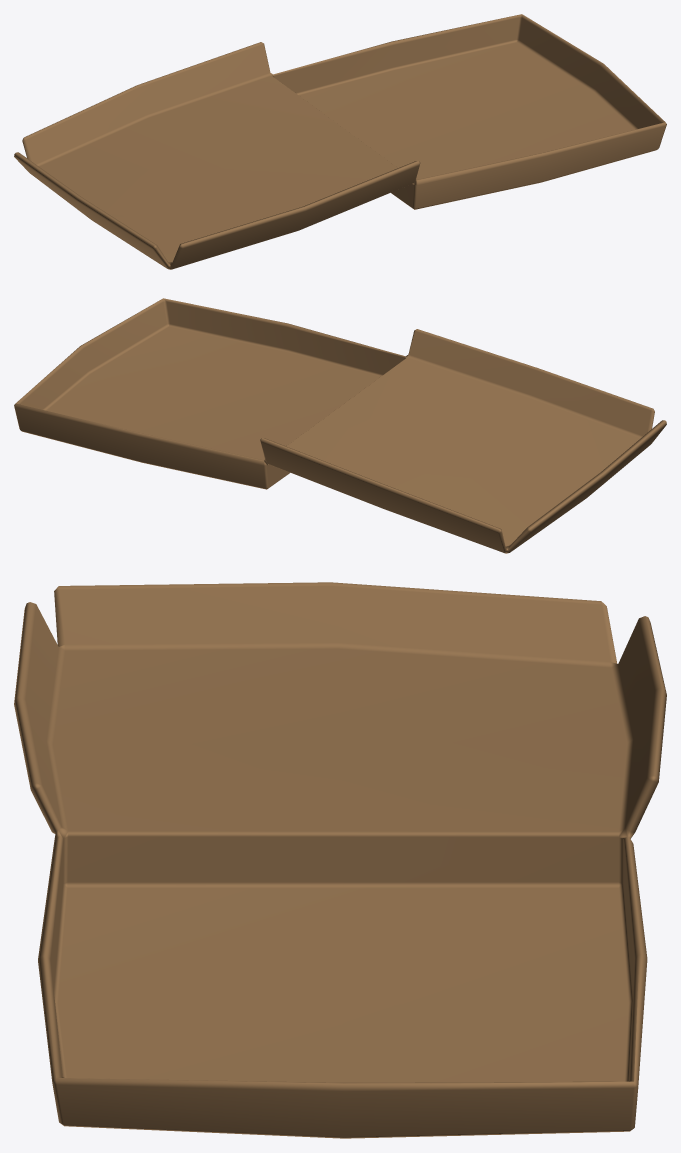
The model's file is pizza_box.gltf.
3 views of the same model, one above another, from view 1: azimuth 30°, elevation 25°; view 2: azimuth 150°, elevation 25°; view 3: azimuth 270°, elevation 25° (orthographic). The views are drawn at different scales.
Visible parts, largest first — view 1: Cube; view 2: Cube; view 3: Cube.
Part boxes in pixels (x1,y1,x2,y2): Cube: (14,14,666,269); Cube: (14,298,666,553); Cube: (14,582,666,1138).
Size of the model in its own units: 2.13 by 0.2534 by 1.15.
